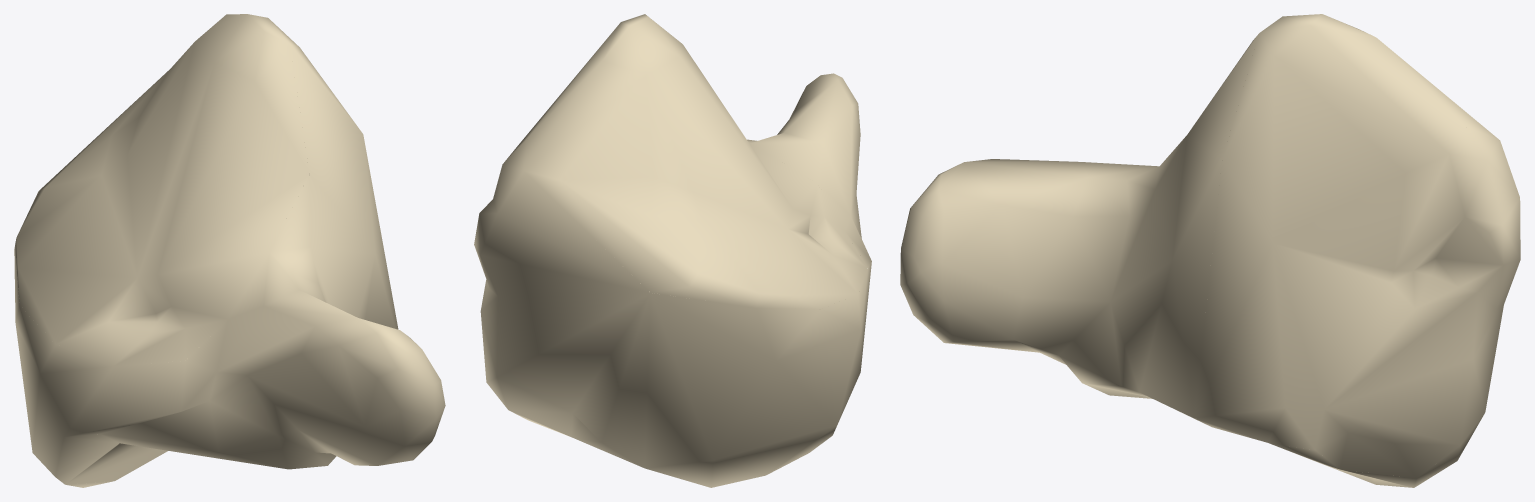
File: esqueleto-hamate-bone-l.glb
The picture shows the model from 3 angles, left to right: view 1: azimuth 30°, elevation 25°; view 2: azimuth 150°, elevation 25°; view 3: azimuth 270°, elevation 25°; orthographic projection. The views are drawn at different scales.
Visible parts, largest first — view 1: Hamate bone.l; view 2: Hamate bone.l; view 3: Hamate bone.l.
Boxes of the visible parts, x1,y1,x2,y2 form: Hamate bone.l: (14, 14, 445, 487); Hamate bone.l: (474, 14, 871, 487); Hamate bone.l: (900, 14, 1520, 487).
Bounding box in the file's own units: 0.0161 × 0.0202 × 0.0234.
